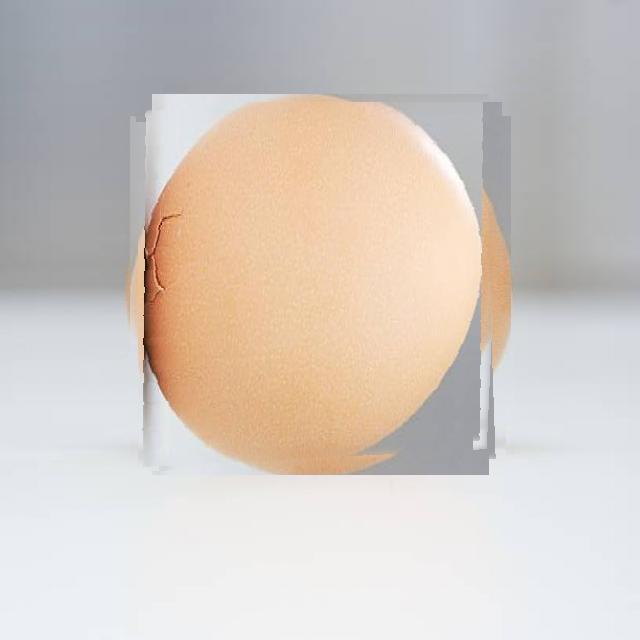biodegradable: (138, 102, 503, 468)
